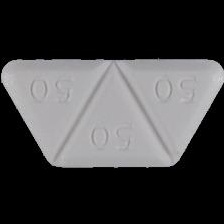58118-0431: (0, 0, 224, 224)
